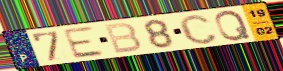7: (30, 30, 61, 63)
8: (143, 19, 175, 49)
B: (103, 22, 144, 55)
C: (177, 13, 220, 46)
E: (61, 25, 107, 60)
Q: (214, 9, 254, 42)
